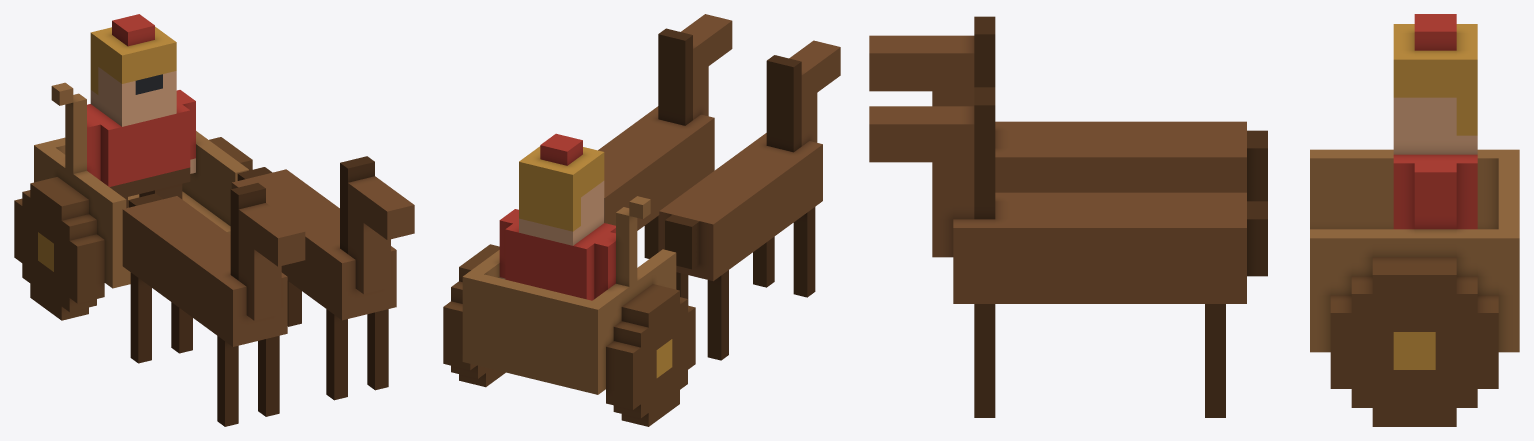
The model's file is u_chariot.glb.
The picture shows the model from 3 angles, left to right: view 1: azimuth 30°, elevation 25°; view 2: azimuth 150°, elevation 25°; view 3: azimuth 270°, elevation 25°; orthographic projection. The views are drawn at different scales.
Visible parts, largest first — view 1: u_chariot_body; view 2: u_chariot_body; view 3: u_chariot_body.
Boxes of the visible parts, left/top/right/bottom form: u_chariot_body: left=14, top=14, right=414, bottom=426; u_chariot_body: left=443, top=14, right=840, bottom=426; u_chariot_body: left=869, top=14, right=1519, bottom=426.
Bounding box in the file's own units: 0.875 × 1.12 × 1.94.
1 material, 1 textured.
